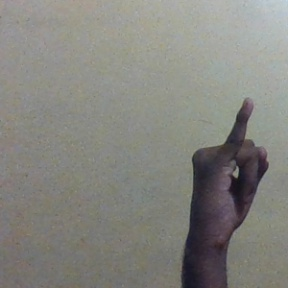I: (186, 96, 270, 233)
